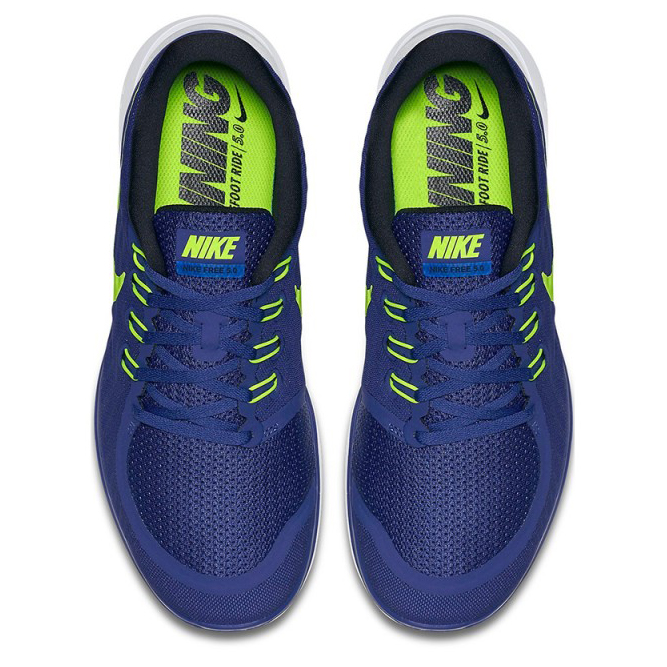Nike: (465, 75, 495, 126), (229, 78, 258, 124)
